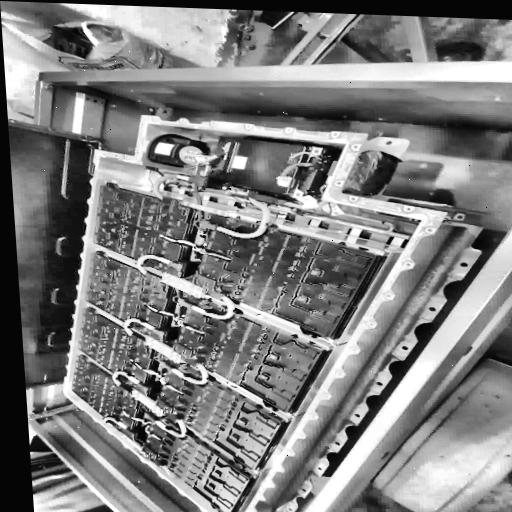high_volt_cable: (214, 194, 331, 240), (150, 170, 197, 202), (188, 293, 238, 321), (165, 360, 212, 384), (134, 252, 174, 276), (151, 416, 188, 437), (122, 316, 157, 338), (109, 369, 143, 390), (100, 415, 128, 430)
